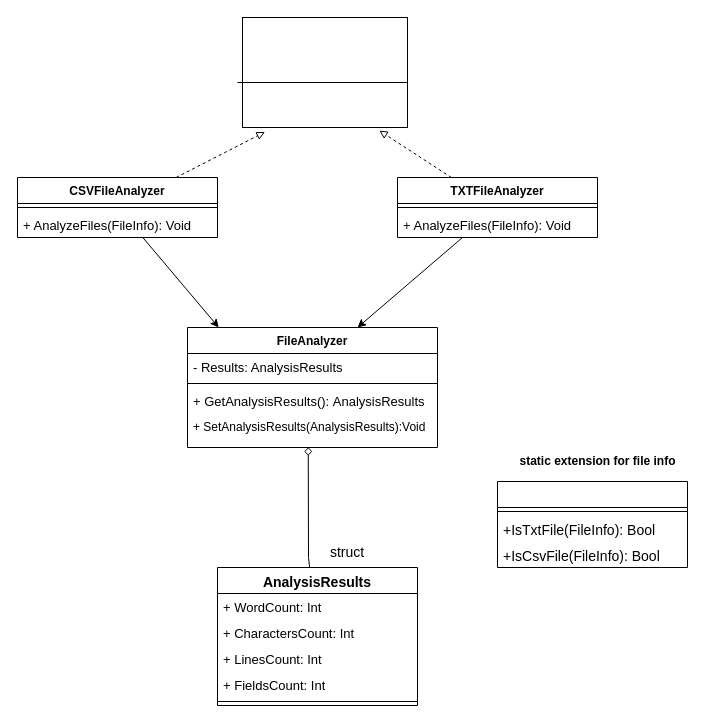
This 705x723 diagram has some shape labels left out. The shapes that lost their labels are listed below. From the top down, each one's box as (x1, y1, x2, y2) in pixels, then its label:
(242, 16, 408, 128): «interface» IFileAnalysis AnalyzeFiles(FileInfo)
(496, 480, 688, 568): FileInfoExtension
